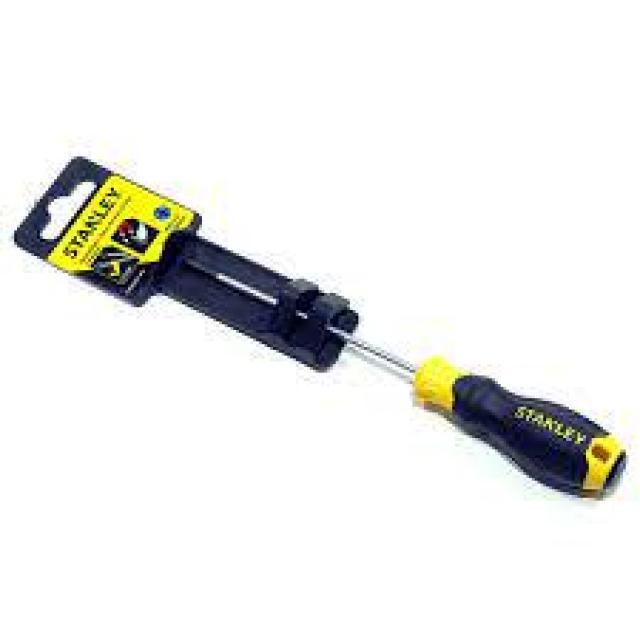screwdriver: (169, 243, 633, 508)
